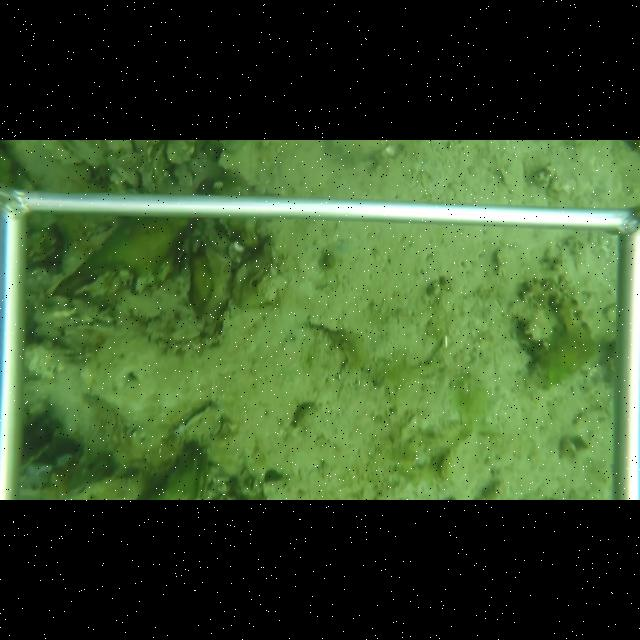Oyster-Open: (139, 140, 166, 192)
